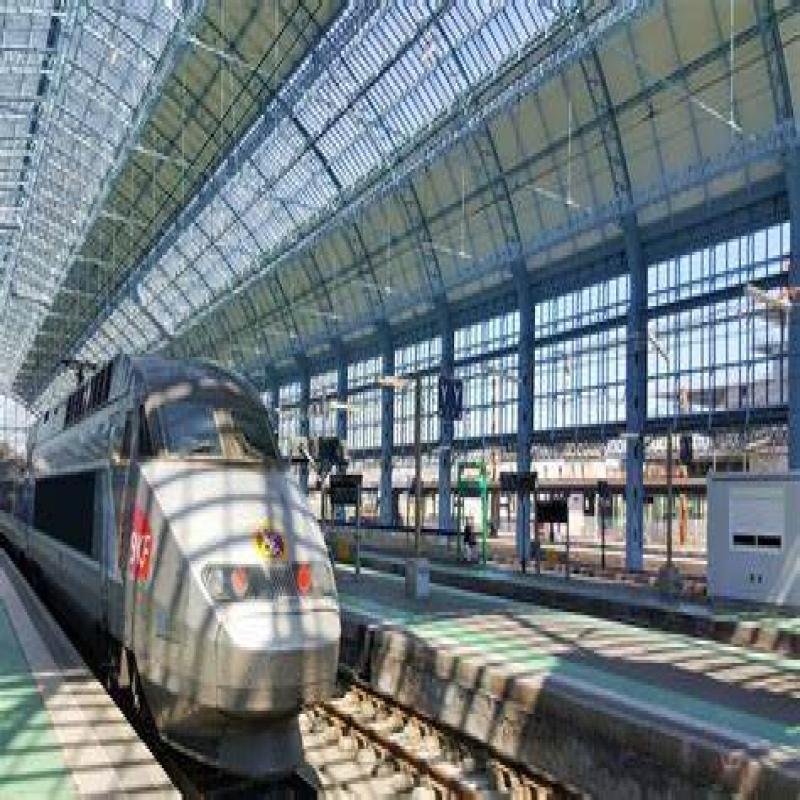train: (20, 336, 349, 747)
